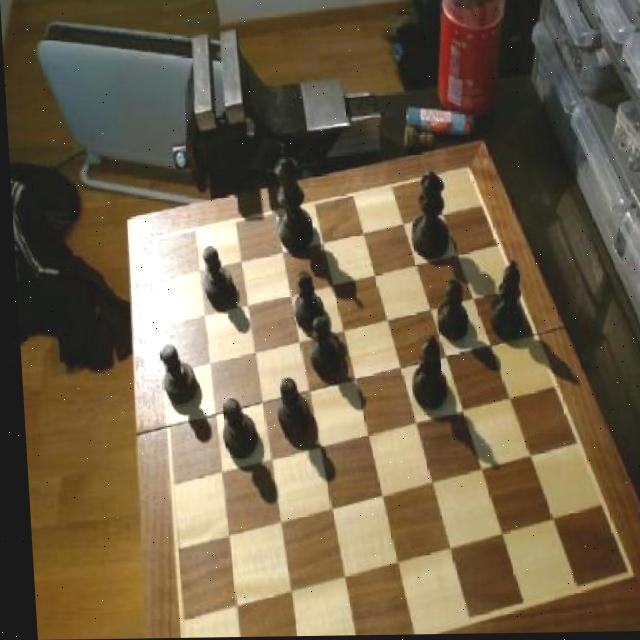bishop: (478, 259, 525, 343), (401, 332, 446, 415)
black-bishop: (265, 144, 313, 254)
black-knight: (154, 341, 196, 410), (213, 397, 254, 463), (269, 378, 308, 441), (196, 245, 234, 308), (429, 280, 466, 341), (303, 313, 338, 376), (286, 269, 320, 331)
black-pawn: (404, 170, 451, 262)
